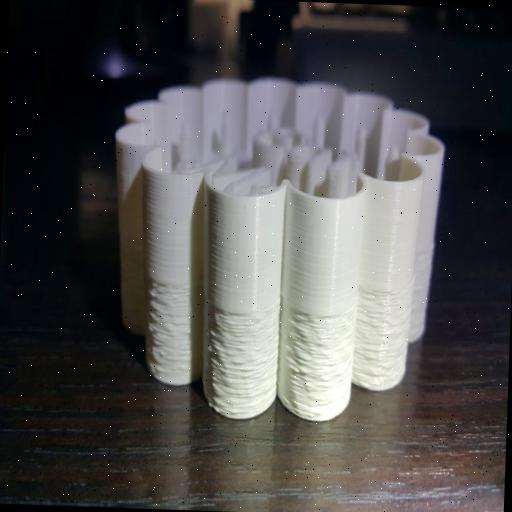blobs: (278, 300, 348, 408), (206, 301, 274, 402), (356, 278, 410, 378), (142, 278, 194, 378)
